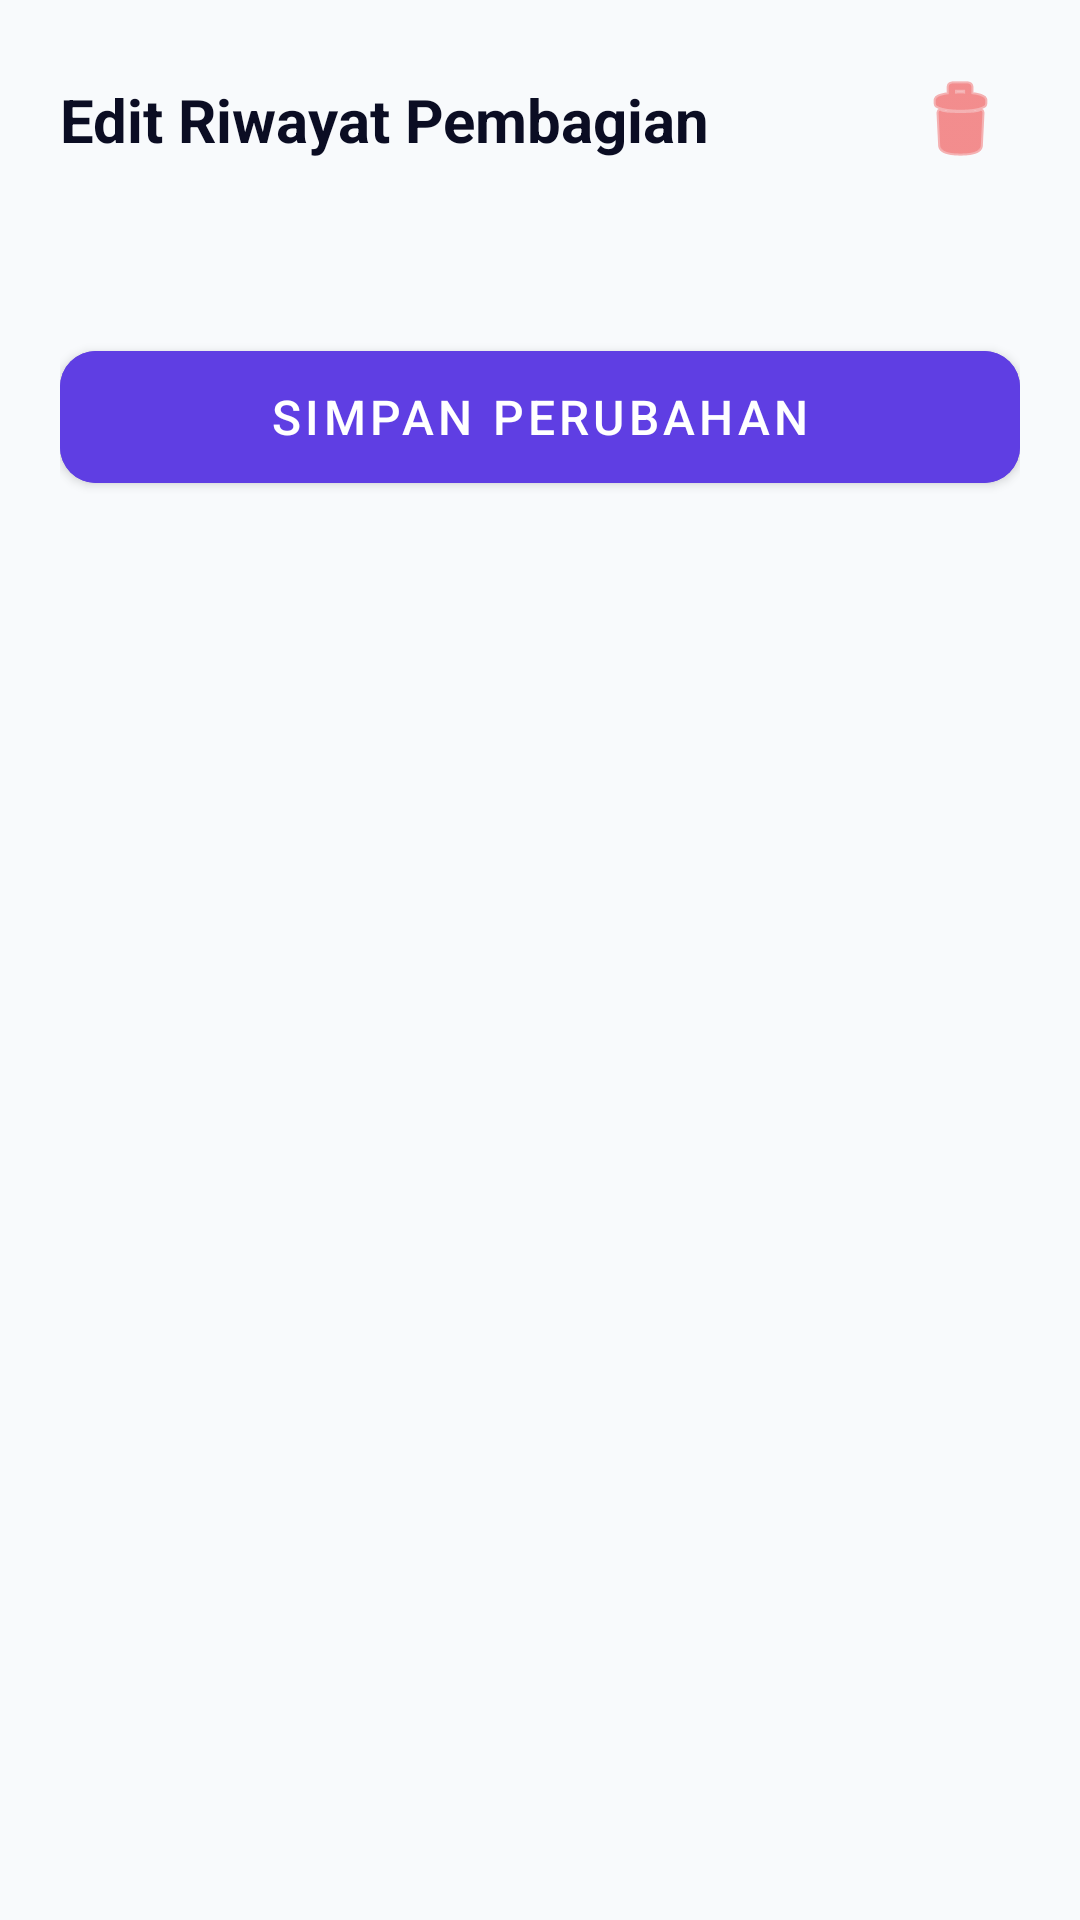

Where icons sit on this 1080×1920 app screen, as [x1, y1, x2, y2]:
Hapus Riwayat: [933, 81, 988, 156]
